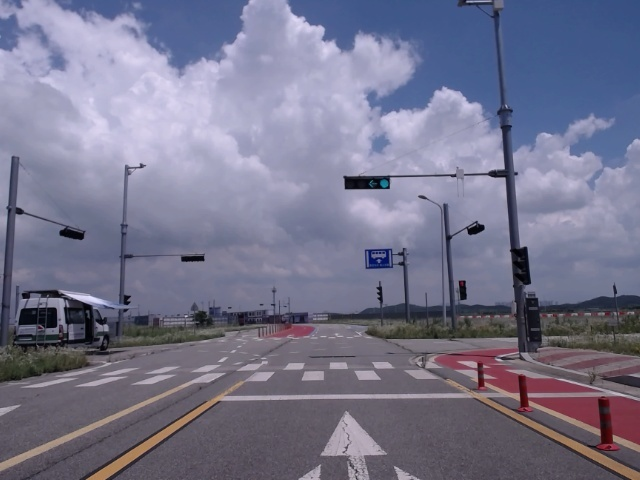all_green_4: (343, 177, 396, 191)
